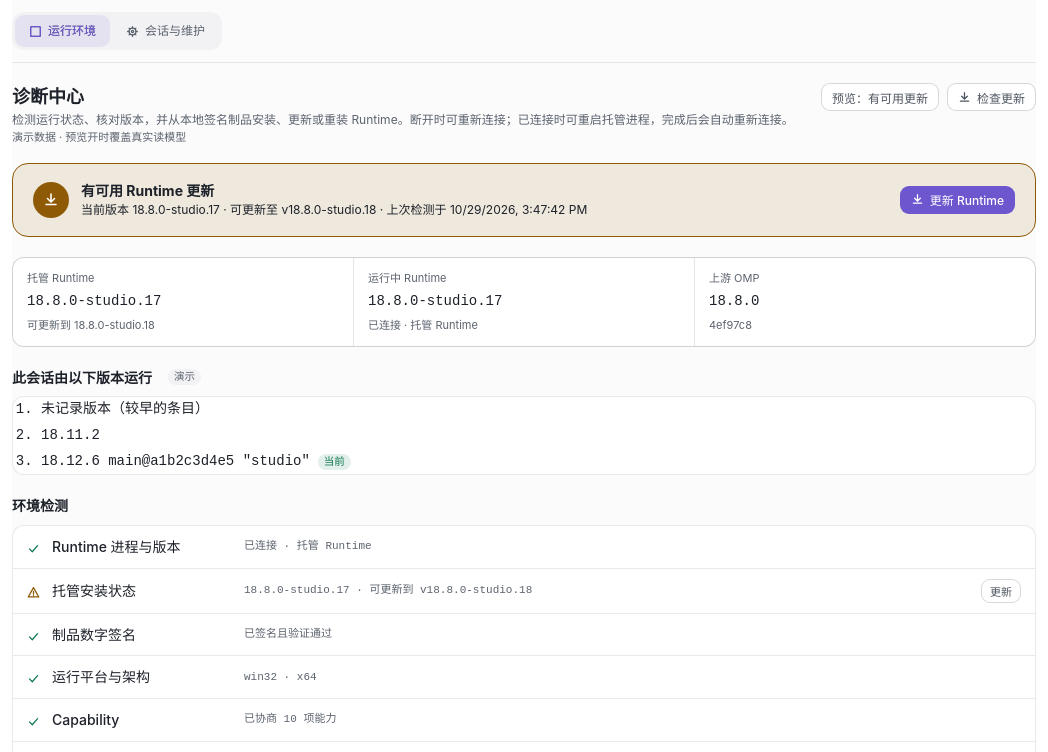
Test: DiagnosticsPage › shows a Chinese launch-failure reason in the preview fail scenario
Click the button "预览：有可用更新". click: (880,97)
box: x1=821 y1=83 x2=939 y2=111
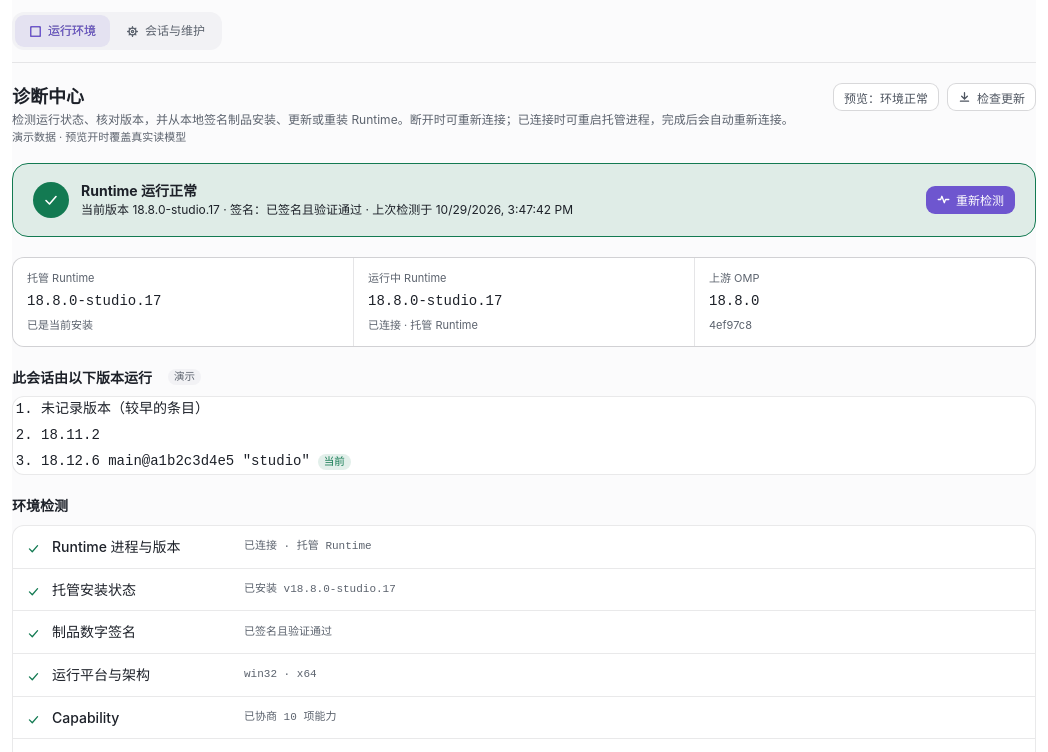
Click the button "预览：环境正常". click: (886,97)
box: x1=833 y1=83 x2=939 y2=111
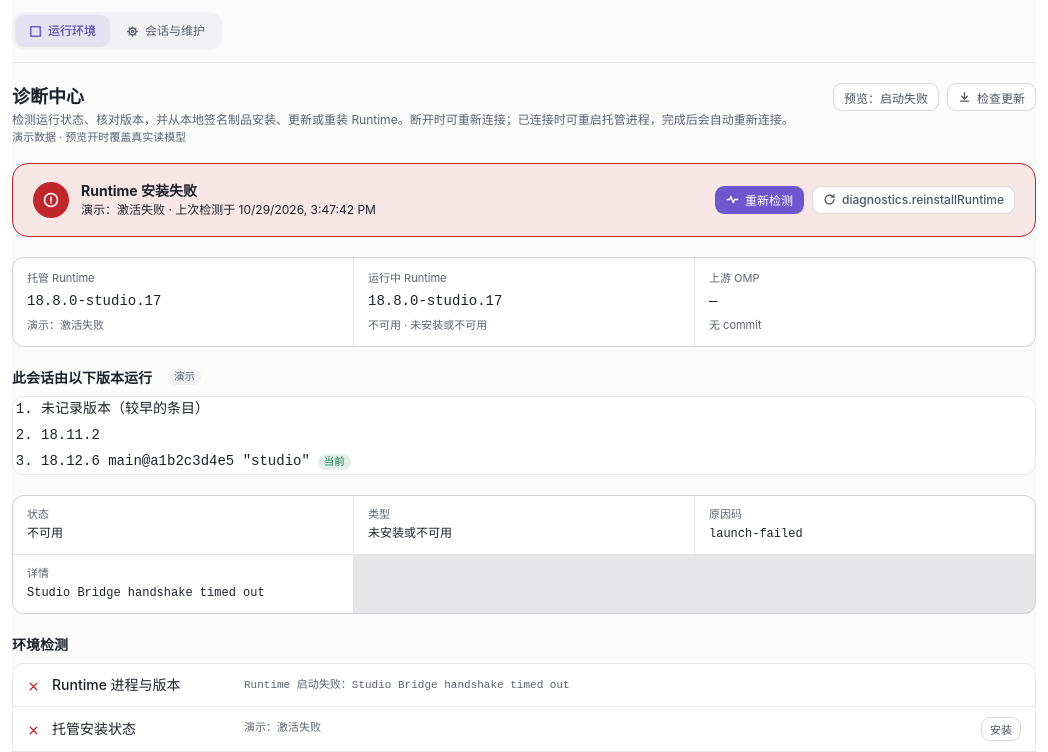
Expected: the text "Runtime 安装失败" is shown, x1=81 y1=182 x2=197 y2=198
Expected: the text "Runtime 启动失败：Studio Bridge handshake timed out" is shown, x1=244 y1=679 x2=570 y2=691
